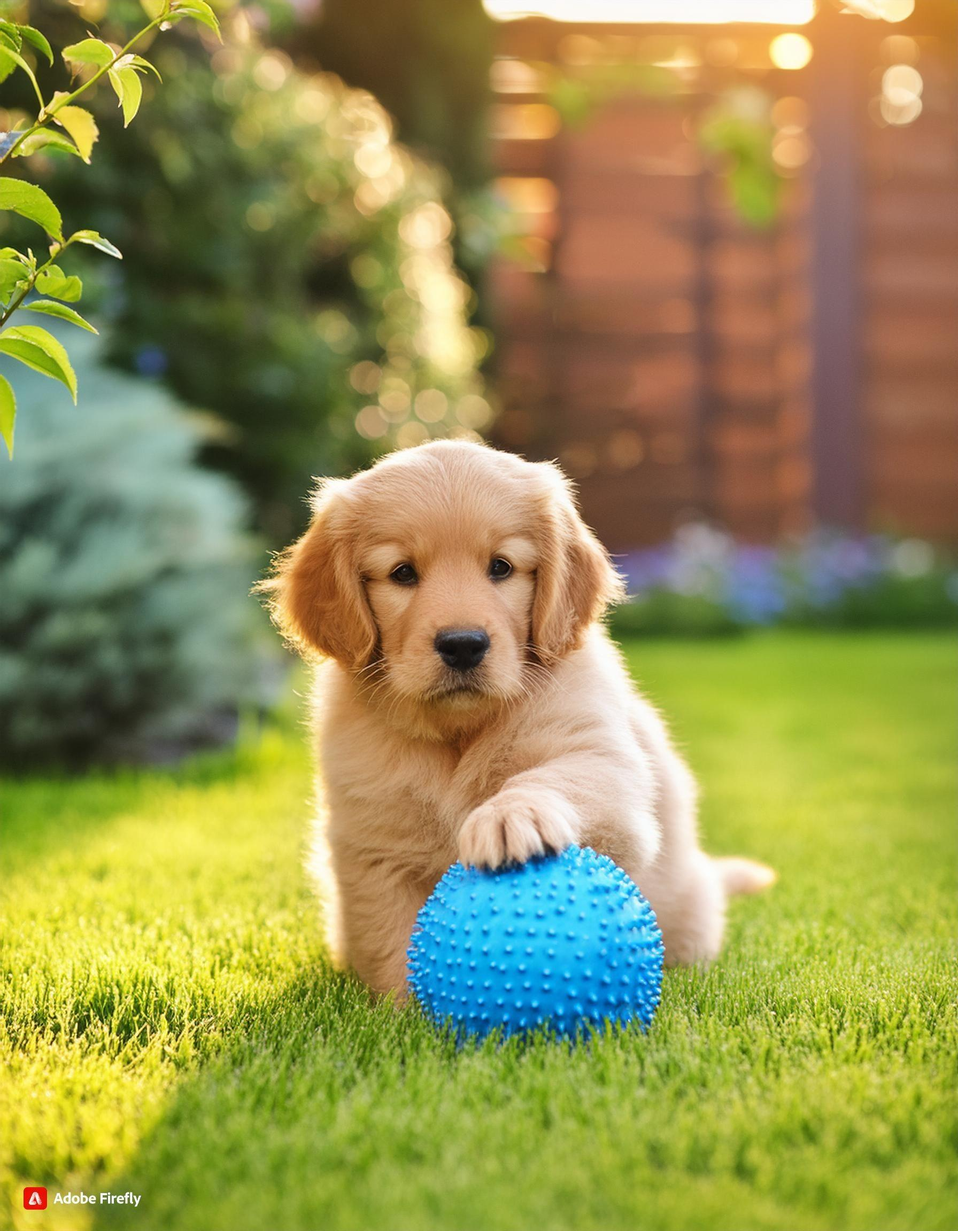non-dog: (405, 843, 667, 1043)
puppy-dog: (255, 438, 780, 1002)
